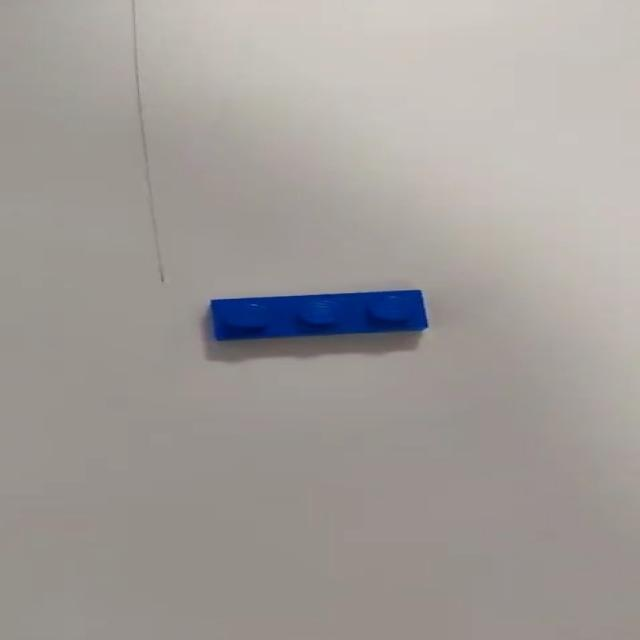C3x1x0: (203, 286, 429, 338)
